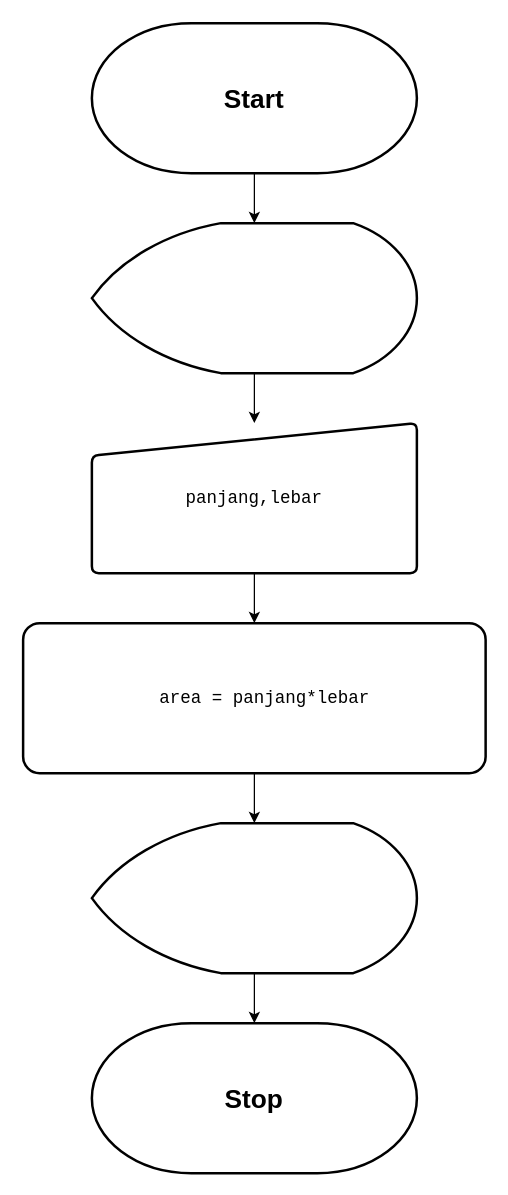
Image size: 508x1195. Some labels were removed from this diagram. Each missing label, with the box of its shape:
print " คำนวณพื้นที่ของรูปสี่เหลี่ยมผืนผ้า ": (90, 221, 418, 374)
print " พื้นที่ของรูปสี่เหลี่ยมผืนผ้า =", area, "-------------------------": (90, 821, 418, 974)
